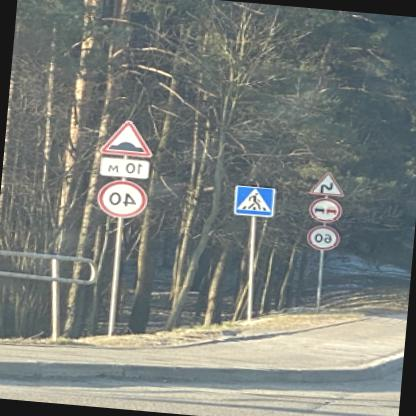crosswalk: (235, 184, 280, 218)
speedlimit: (99, 178, 150, 220), (309, 224, 343, 251)
